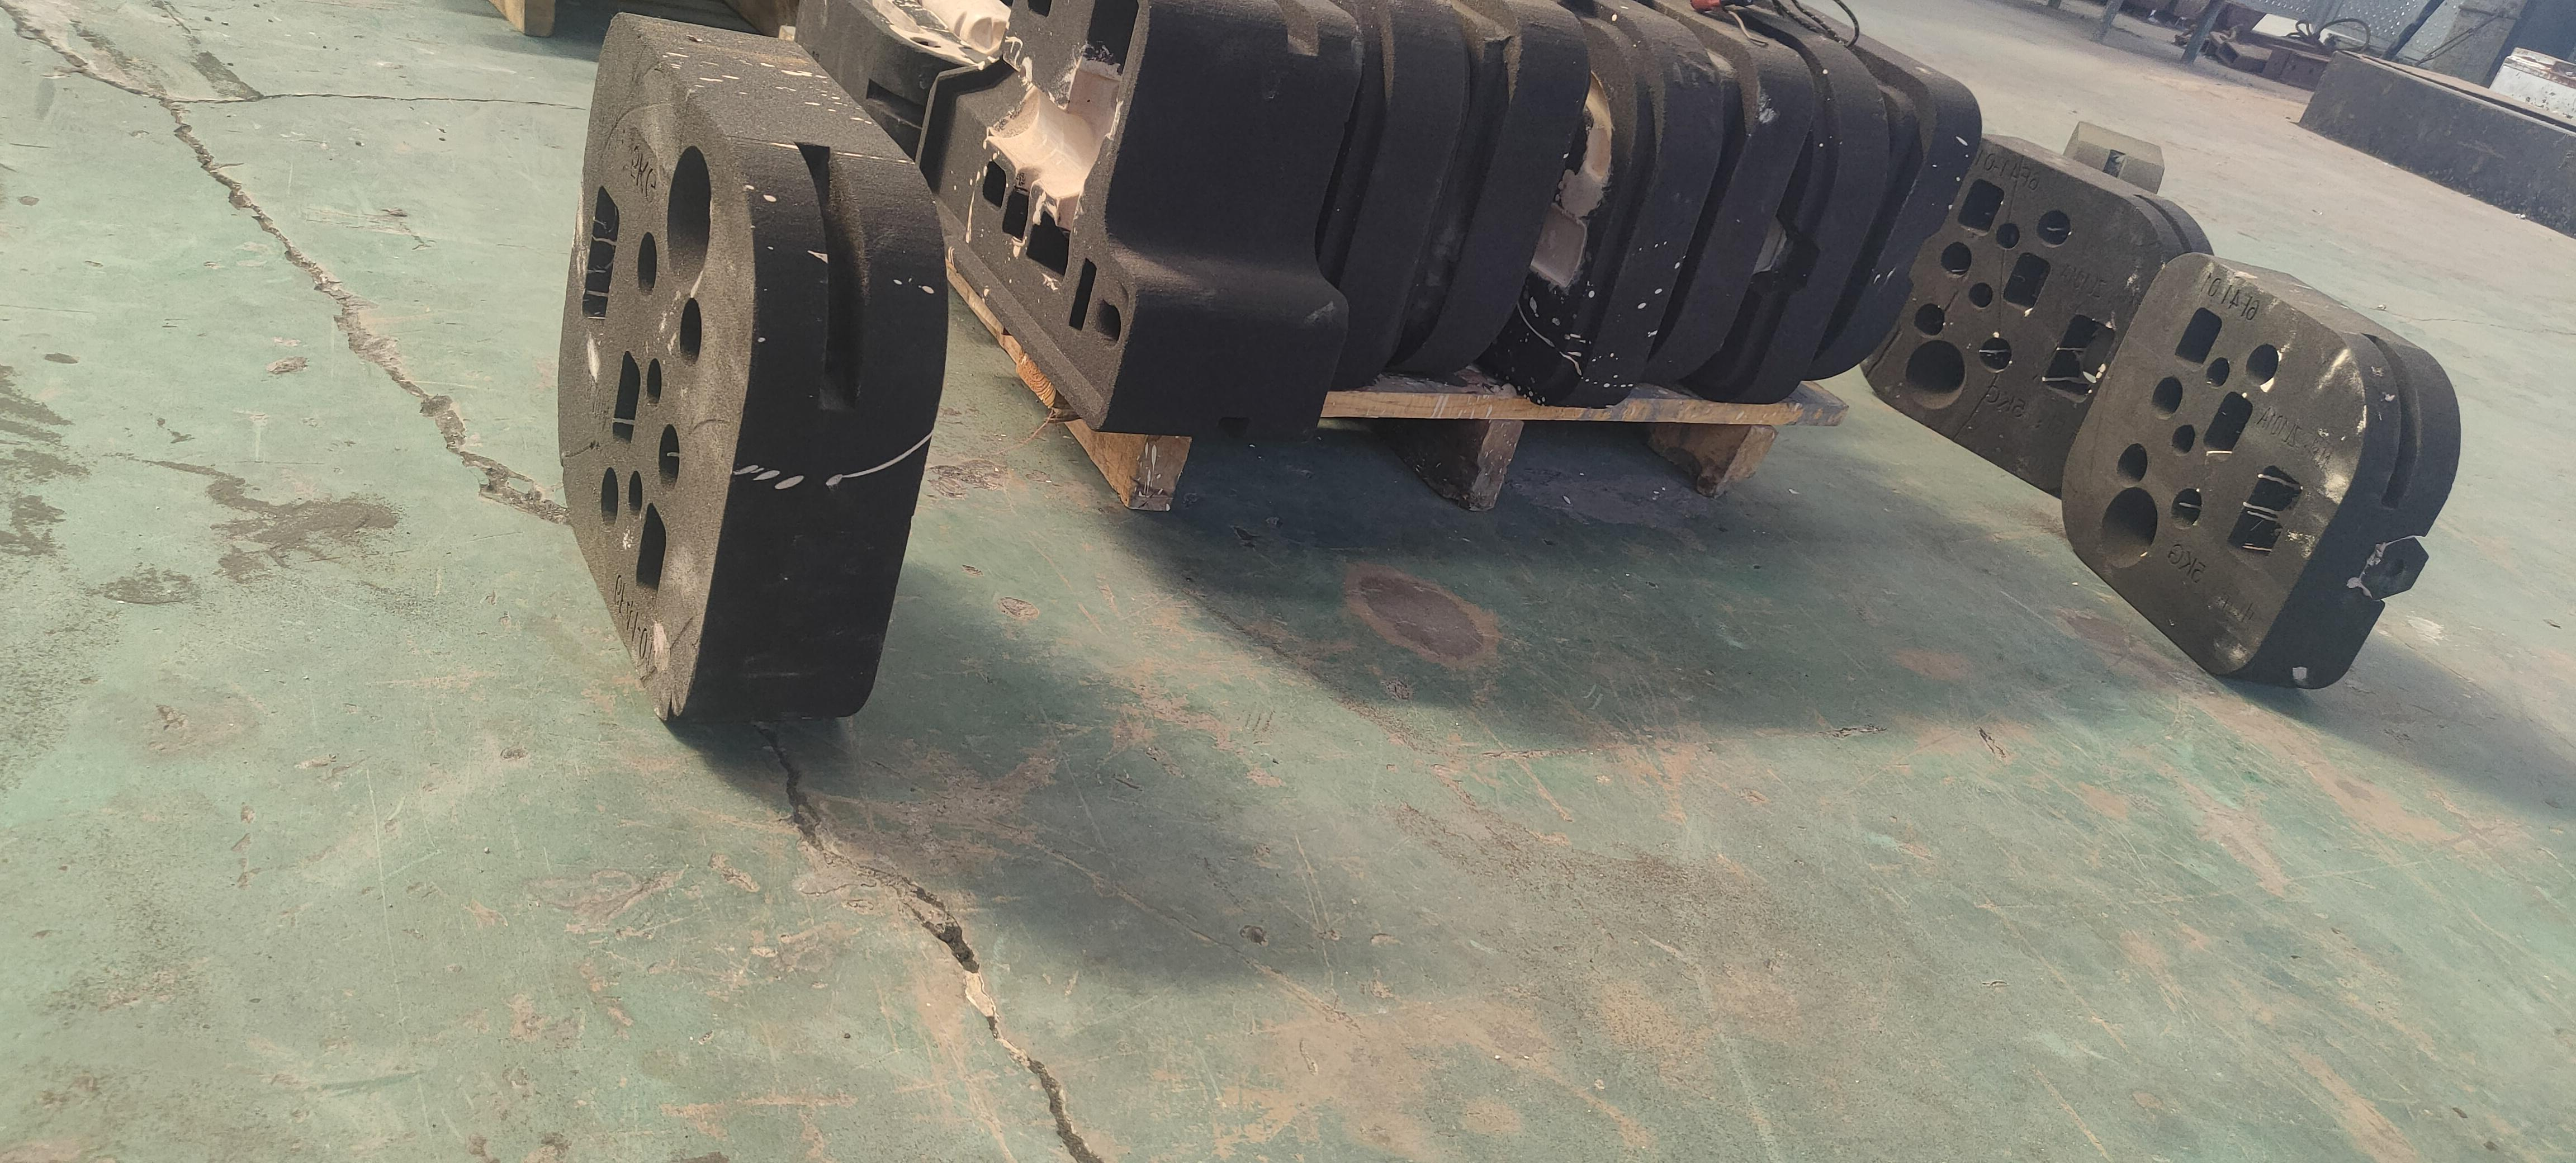pouring hole: (665, 143, 716, 297), (2098, 483, 2159, 570), (1902, 337, 1968, 409)
